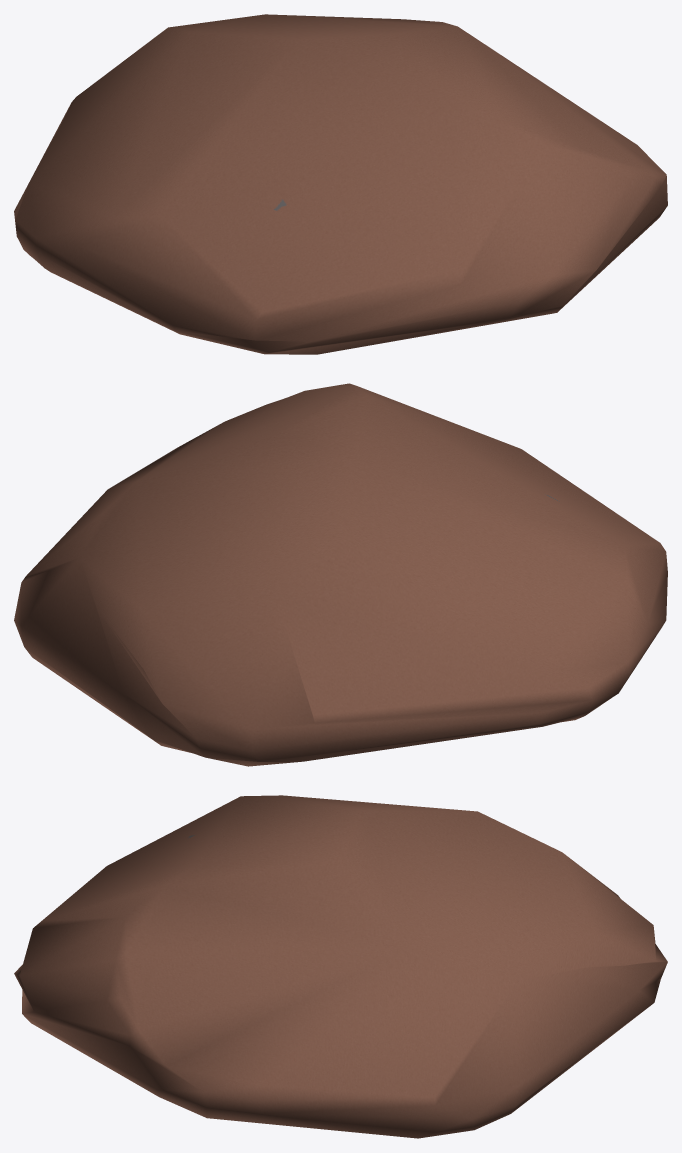
File: food_002.fbx
3 renders of one model, top to bottom at view 1: azimuth 30°, elevation 25°; view 2: azimuth 150°, elevation 25°; view 3: azimuth 270°, elevation 25°, orthographic. The views are drawn at different scales.
Parts seen in each view (by area): view 1: food_002_low; view 2: food_002_low; view 3: food_002_low.
Part boxes in pixels (left/top/right/bottom): food_002_low: left=14, top=14, right=667, bottom=354; food_002_low: left=14, top=383, right=667, bottom=766; food_002_low: left=14, top=795, right=667, bottom=1138.
Bounding box in the file's own units: 59.1 × 20.59 × 61.07.
